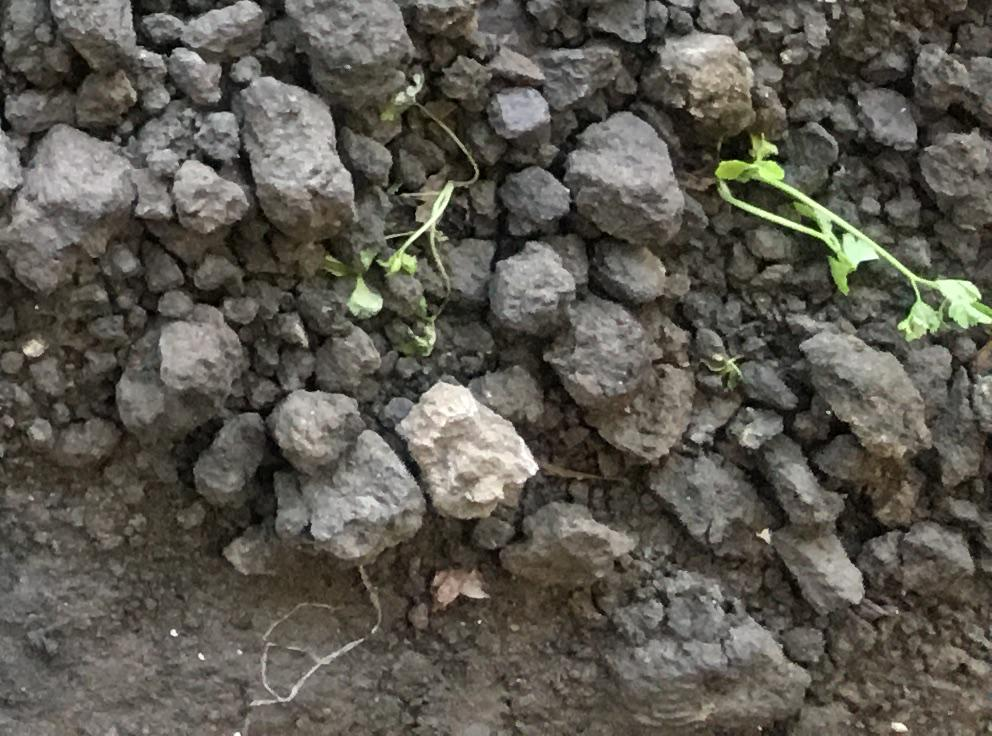block: (1, 125, 138, 297), (233, 77, 354, 249), (269, 433, 425, 556), (398, 377, 534, 515), (811, 328, 931, 462), (567, 109, 678, 245), (643, 29, 751, 149), (285, 1, 421, 96), (503, 504, 630, 589), (552, 292, 640, 413), (490, 239, 568, 338)
